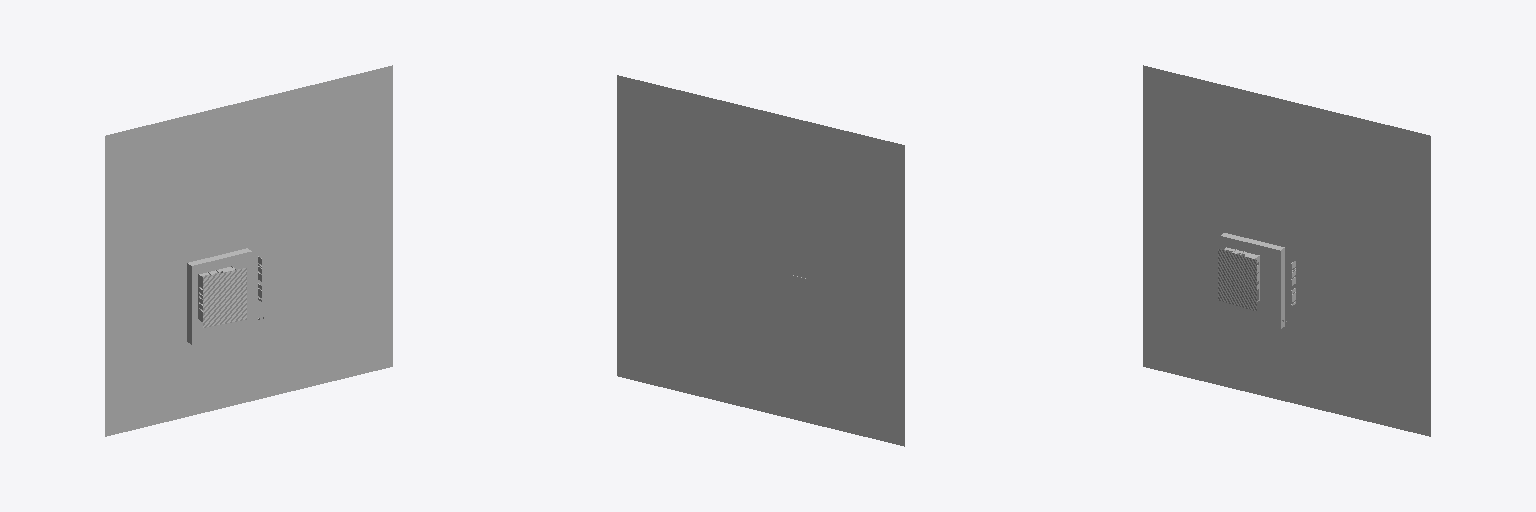
Rendered from DYIMBA1 freecad expt.obj.
3 views of the same model, side by side, from view 1: azimuth 30°, elevation 25°; view 2: azimuth 150°, elevation 25°; view 3: azimuth 330°, elevation 25° (orthographic).
Visible parts, largest first — view 1: Plane_Plane.009, 0_curve_.002_Mesh.055, A-Wall_curve_.031_Mesh.041; view 2: Plane_Plane.009, A-Wall_curve_.005_Mesh.102; view 3: Plane_Plane.009, 0_curve_.002_Mesh.055, A-Wall_curve_.031_Mesh.041.
Boxes of the visible parts, box(x1,y1,x2,y2) form: Plane_Plane.009: box(105, 65, 392, 436); 0_curve_.002_Mesh.055: box(187, 248, 251, 344); A-Wall_curve_.031_Mesh.041: box(203, 268, 246, 327); Plane_Plane.009: box(617, 75, 904, 446); A-Wall_curve_.005_Mesh.102: box(783, 273, 816, 324); Plane_Plane.009: box(1143, 65, 1430, 436); 0_curve_.002_Mesh.055: box(1220, 233, 1284, 328); A-Wall_curve_.031_Mesh.041: box(1218, 249, 1256, 310).
Bounding box in the file's own units: 95503 × 95503 × 7807.